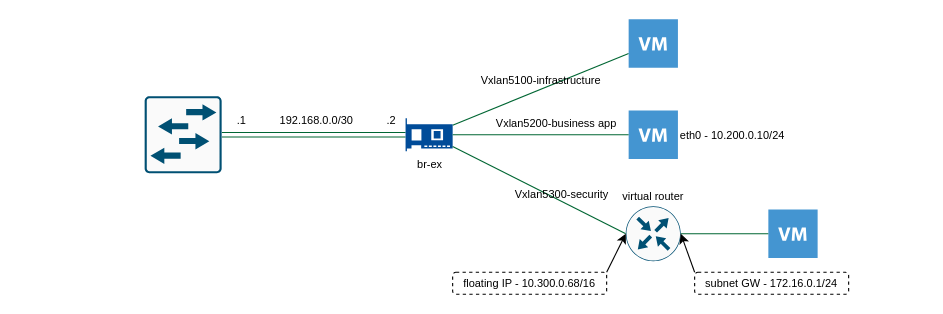
This 943x314 diagram has some shape labels left out. Each missing label, with the centre of its shape:
eth0 - 10.100.0.10/24: the point at 652,43
eth0 - 172.16.0.10/24: the point at 792,233
switchport mode access: the point at 183,134
